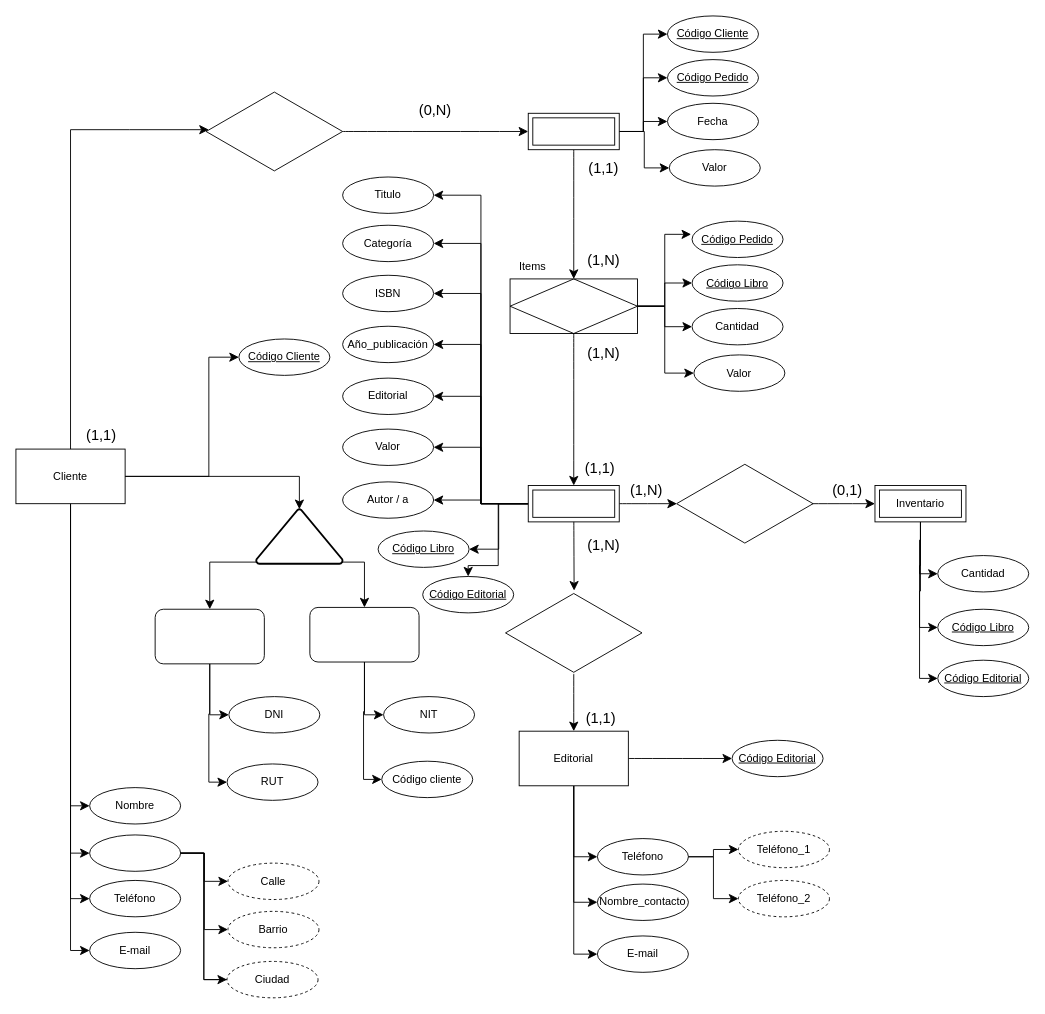
Image size: 1045x1014. Some labels were removed from this diagram. Here are the shapes that lost their labels. From the top down, the centre of each, then its label:
At (x=274, y=131): "Realiza".
At (x=573, y=131): "Pedido".
At (x=573, y=306): "Contiene".
At (x=573, y=503): "Libro".
At (x=744, y=503): "Existe".
At (x=299, y=536): "ID".
At (x=209, y=636): "PN".
At (x=364, y=634): "PJ".
At (x=573, y=632): "Pertenece".
At (x=135, y=852): "Dirección".
